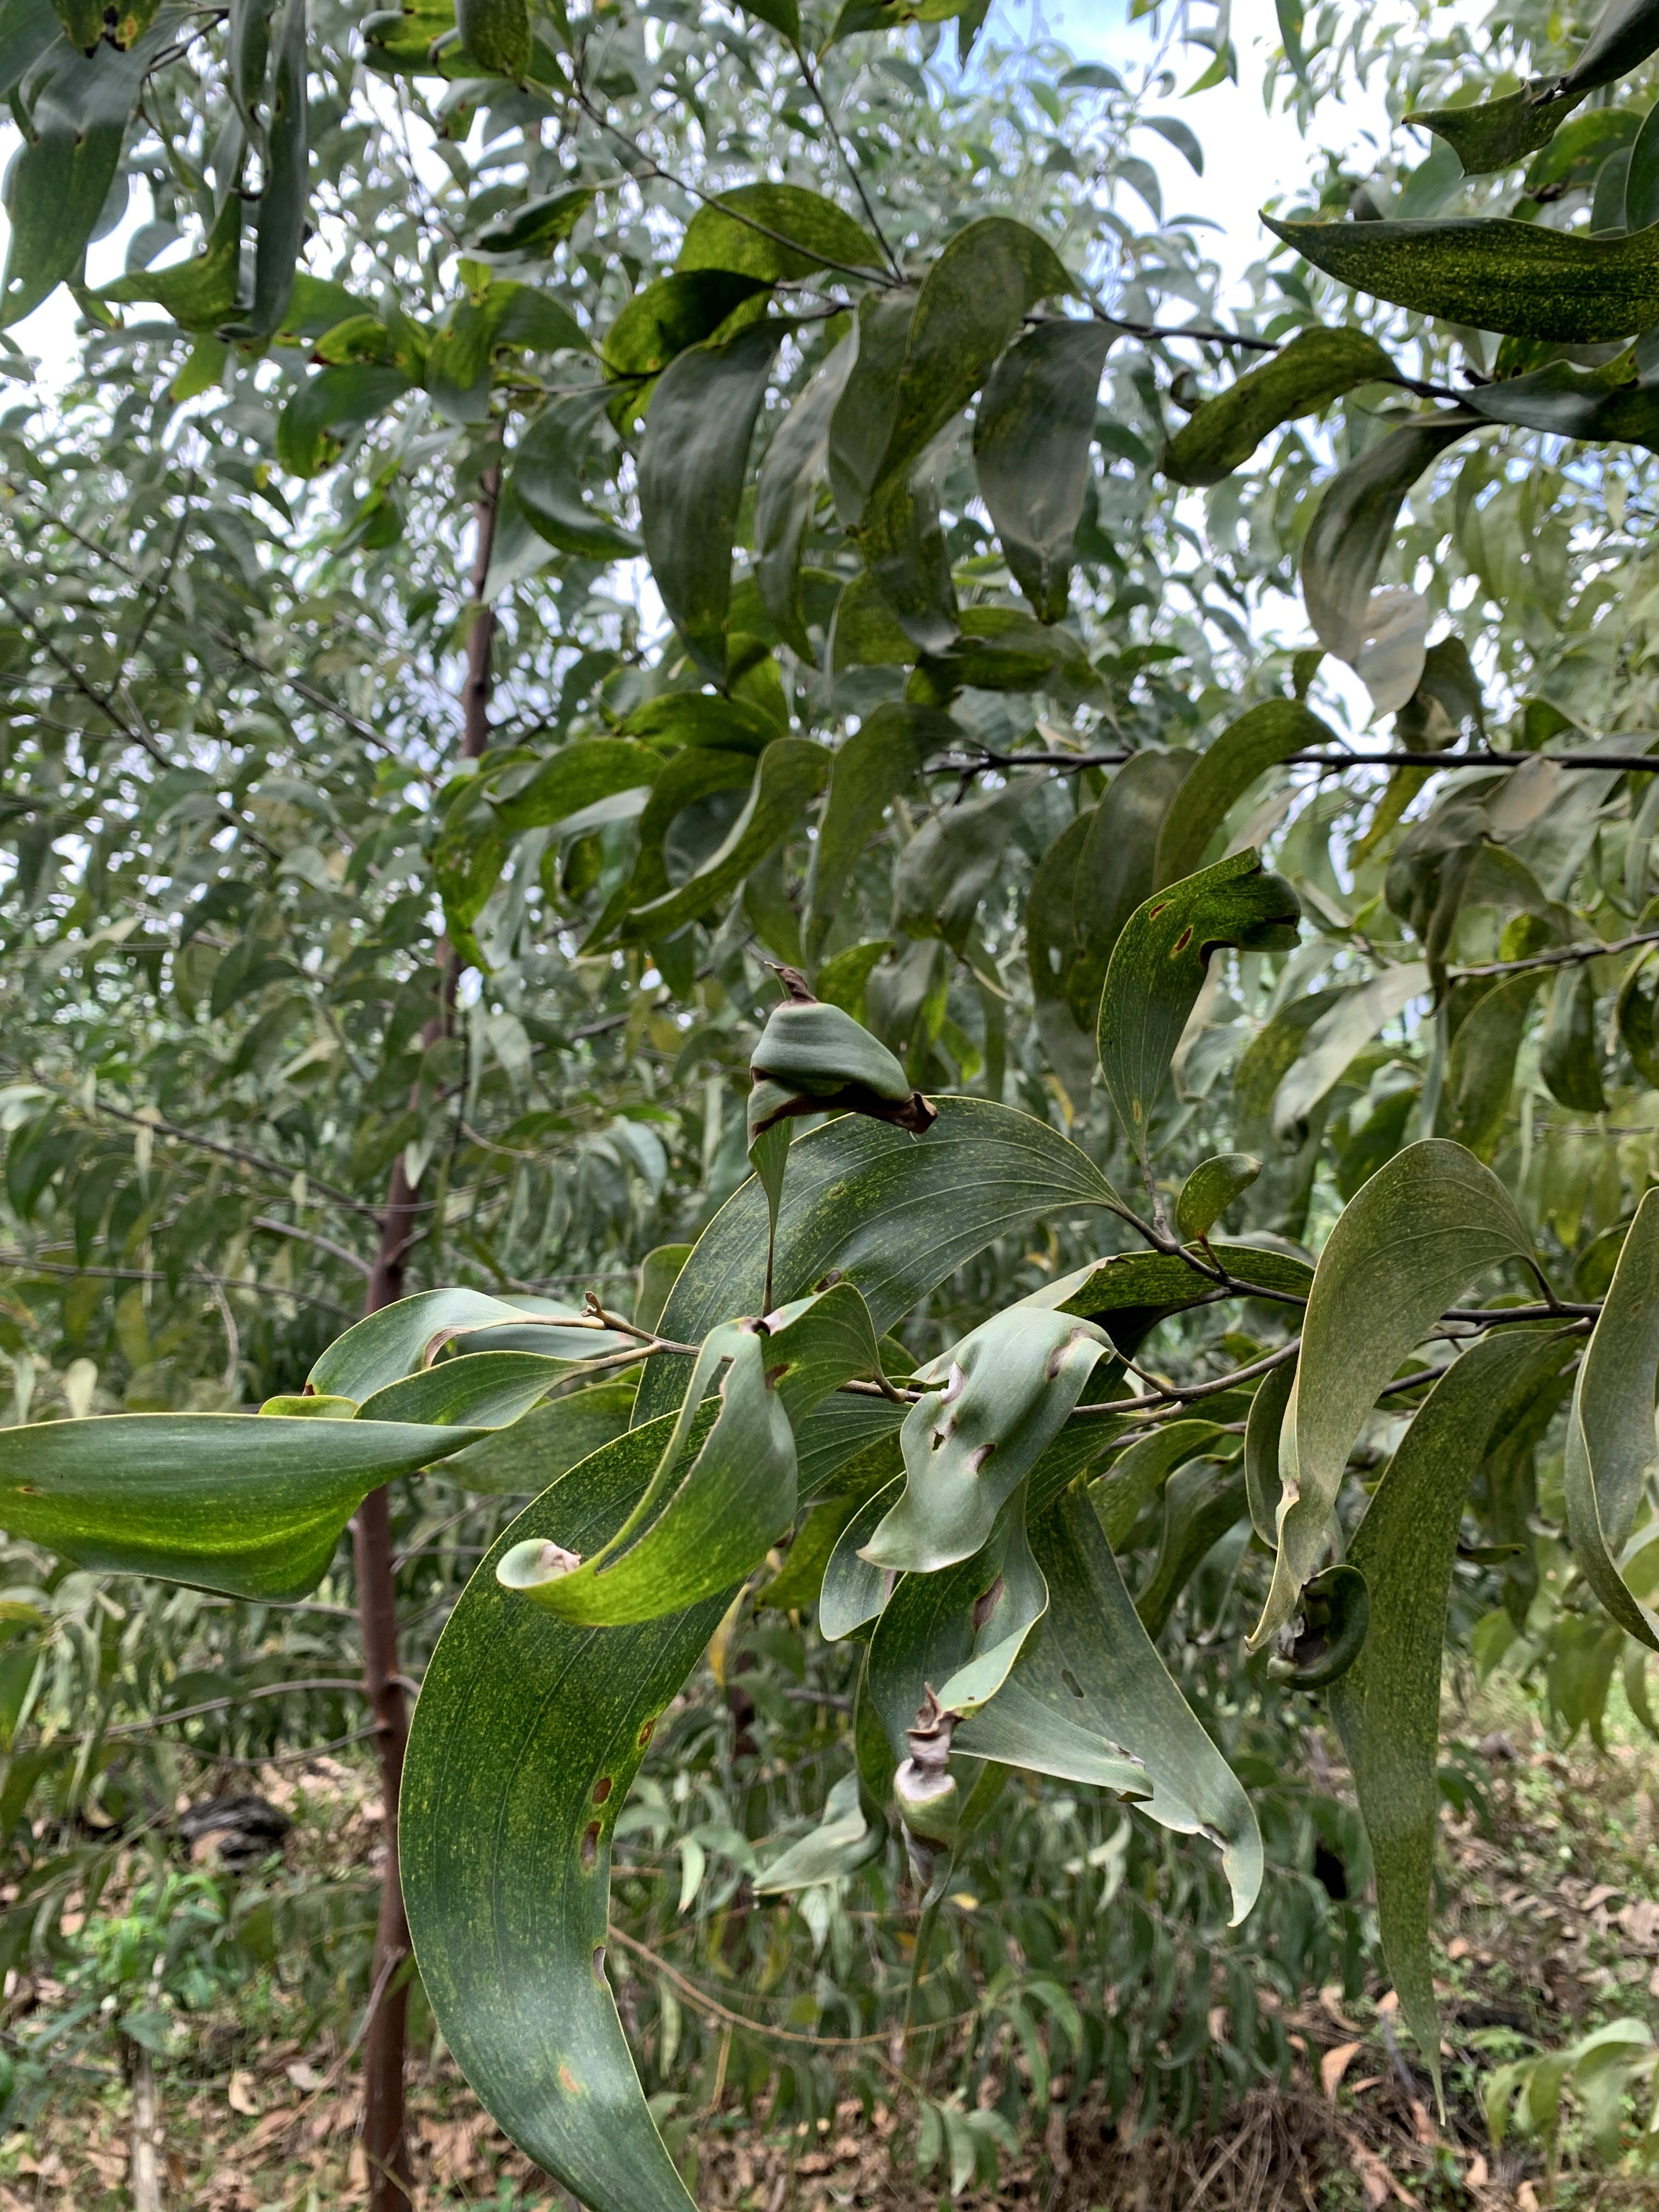Pasalora: (495, 1292, 847, 1634), (836, 1352, 1131, 1573), (1108, 794, 1304, 1118), (735, 972, 945, 1144), (1260, 1456, 1375, 1712), (906, 1609, 978, 1930)
